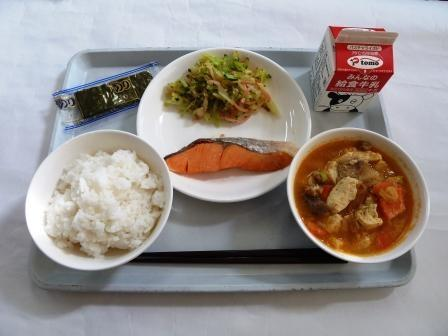Fish: (161, 121, 302, 186)
Milk: (310, 18, 398, 116)
Rice: (26, 137, 177, 262)
Soups: (287, 129, 422, 261)
salad with sauce: (153, 50, 294, 125)
